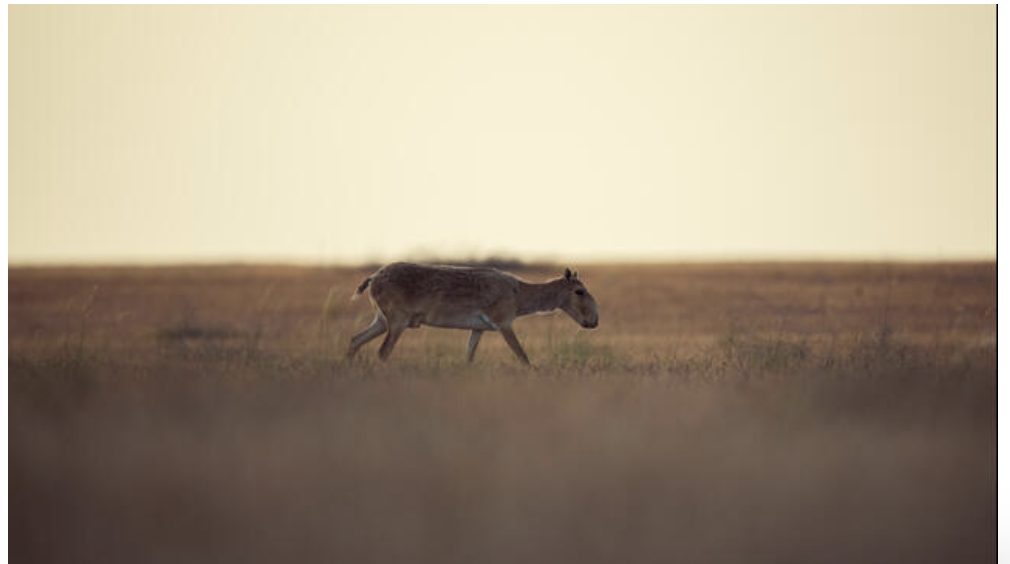saiga: (336, 243, 601, 379)
